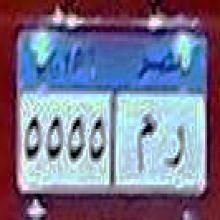5: (66, 116, 86, 169), (89, 116, 108, 169), (24, 114, 43, 165), (45, 116, 65, 164)
meem: (135, 109, 156, 179)
raa: (165, 120, 188, 177)
